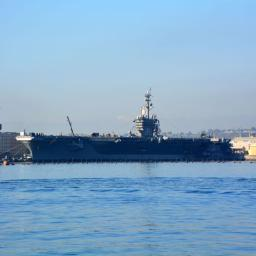Portanaves: (16, 86, 246, 164)
